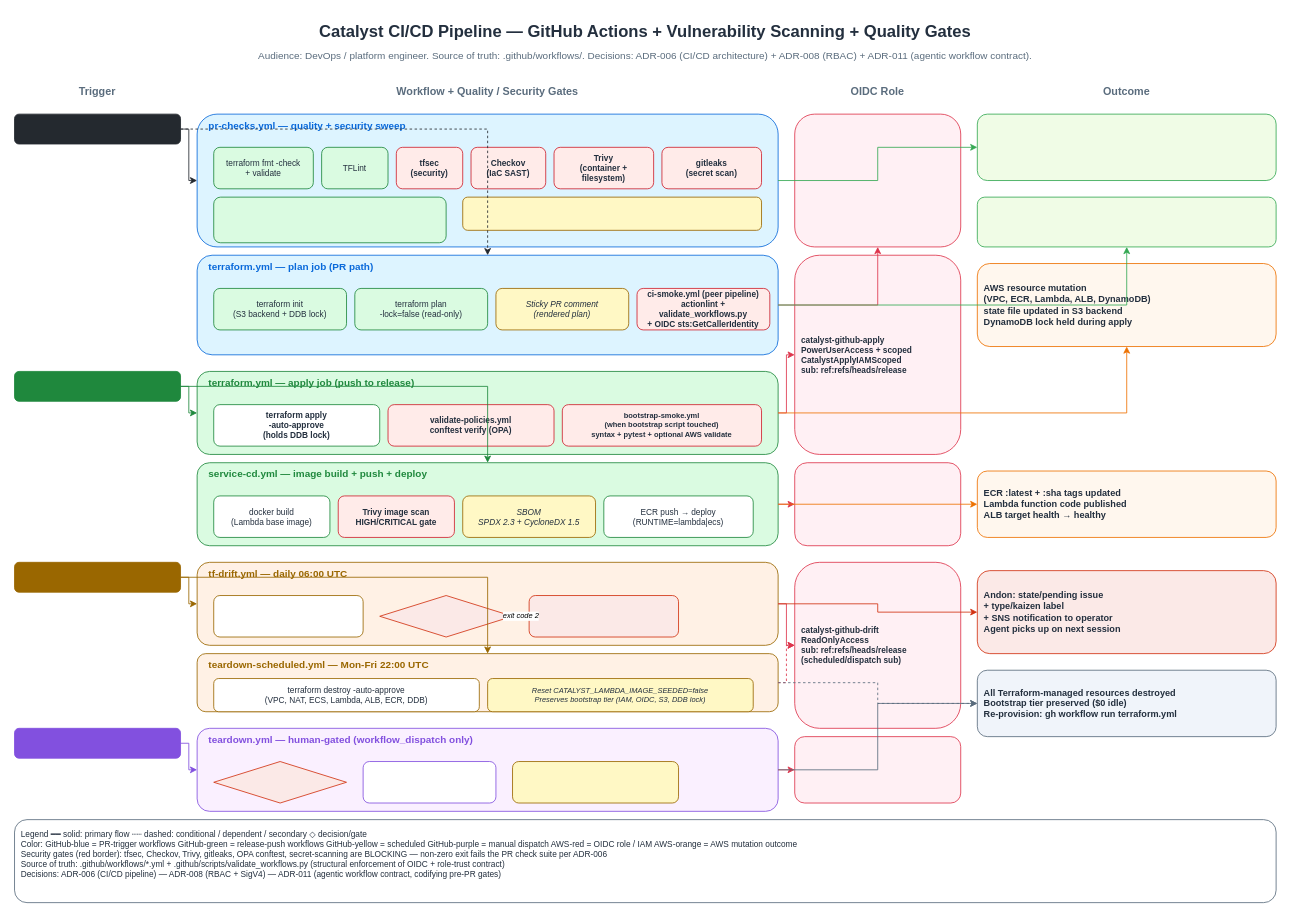
This 1291x917 diagram has some shape labels left out. The shapes that lost their labels are listed below. From the top down, each one's centre as x and y in pixels, then its label:
point (97, 128): pull_request → release
point (1126, 147): PR check suite green (SARIF on code scanning) PR mergeable iff all gates pass
point (877, 180): catalyst-github-plan ReadOnlyAccess sub: pull_request
point (329, 219): pytest API: --cov-fail-under=85 CLI: --cov-fail-under=80 -m 'not live'
point (612, 213): SARIF upload → GitHub code scanning
point (1126, 221): Sticky PR comment with terraform plan (review before merge)
point (97, 386): push → release
point (877, 504): catalyst-github-deploy PowerUserAccess sub: ref:refs/heads/release
point (97, 576): schedule (cron)
point (288, 616): terraform plan -detailed-exitcode -lock=false
point (446, 616): exit code 2? (drift detected)
point (603, 616): gh issue create state/pending + type/kaizen + SNS publish
point (97, 742): workflow_dispatch (manual)
point (280, 782): Operator must type exactly: destroy (if: guard)
point (429, 782): terraform destroy
point (595, 782): GITHUB_STEP_SUMMARY (preserved bootstrap tier + re-provision path)
point (877, 769): catalyst-github-apply (also teardown)
